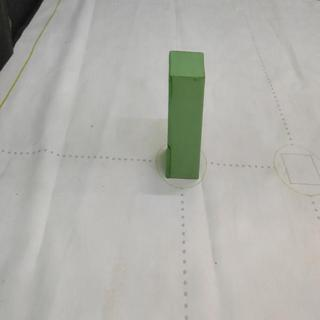greenbox: (167, 50, 204, 179)
